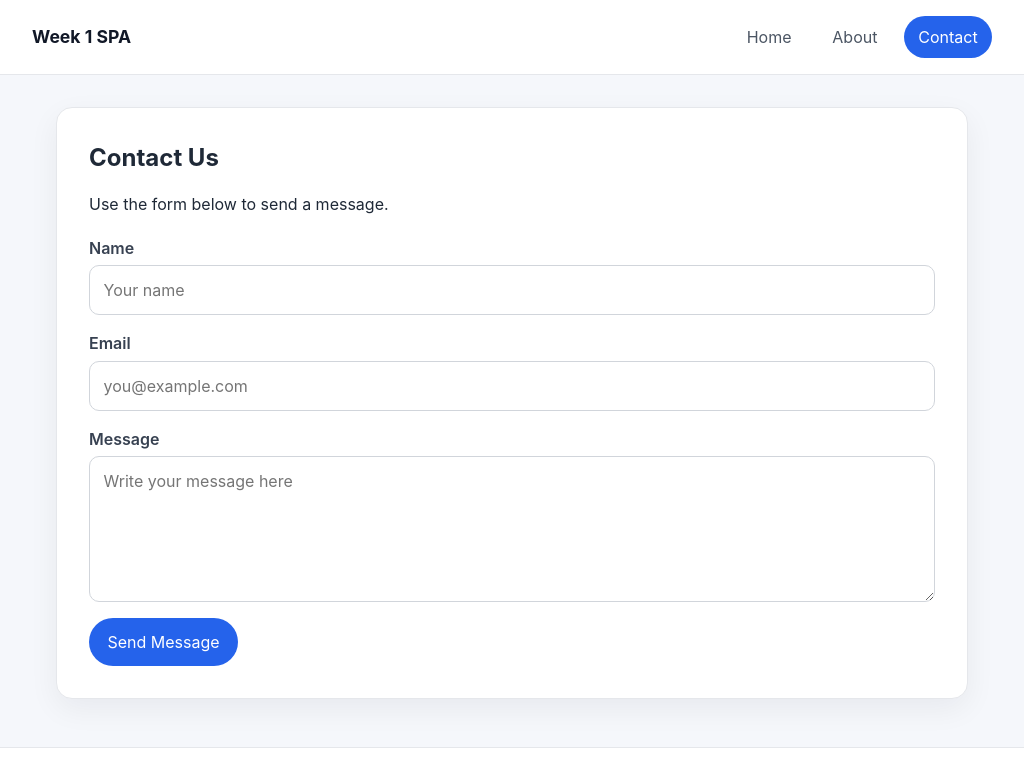
Week 1 SPA › validates the contact form
The image size is (1024, 768).
Click the button "Send Message".
click(163, 642)  # box x1=89 y1=618 x2=238 y2=666
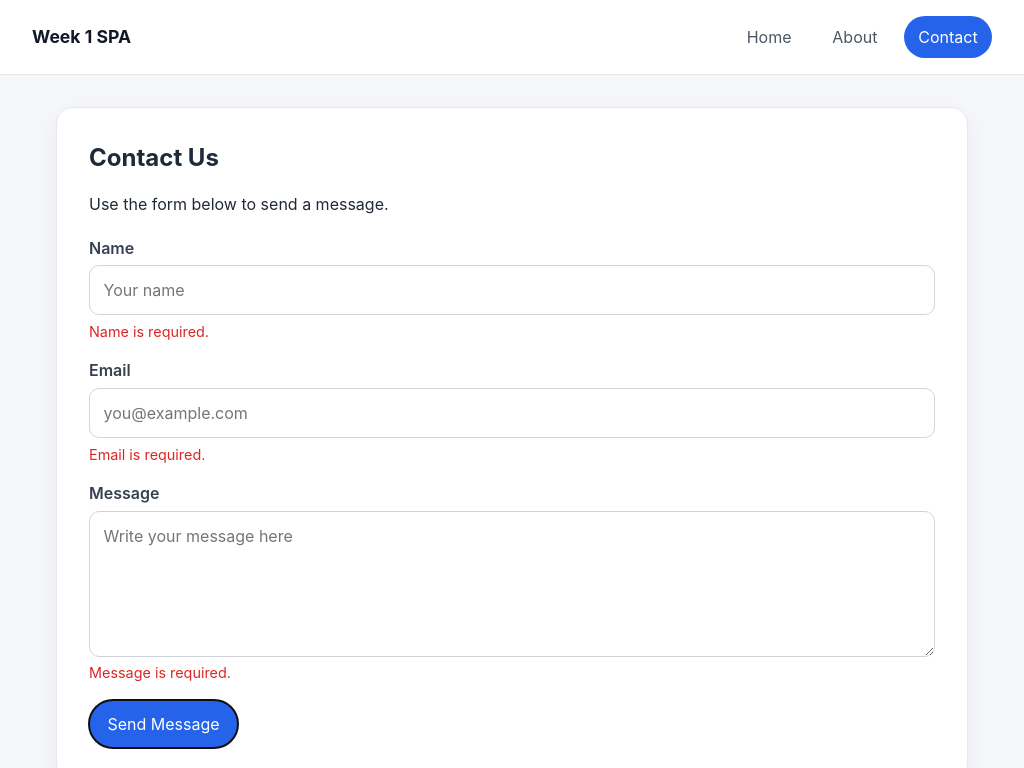
Result: the text "Name is required." is shown at x1=89 y1=323 x2=209 y2=340
Result: the text "Email is required." is shown at x1=89 y1=446 x2=205 y2=463
Result: the text "Message is required." is shown at x1=89 y1=664 x2=231 y2=681
Type "Ada Lovelace" into the field labelled "Name Name is required.".
click(512, 290); type("Ada Lovelace")  # box x1=89 y1=265 x2=935 y2=315
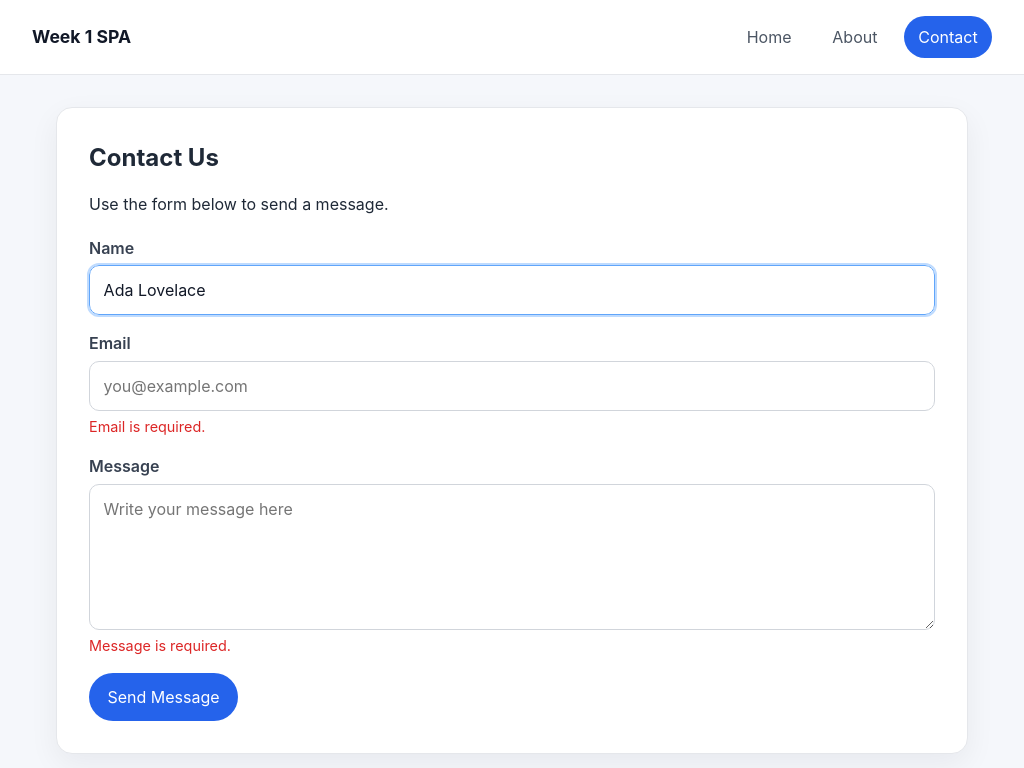
Type "ada@example.com" into the field labelled "Email Email is required.".
click(512, 386); type("ada@example.com")  # box x1=89 y1=361 x2=935 y2=411
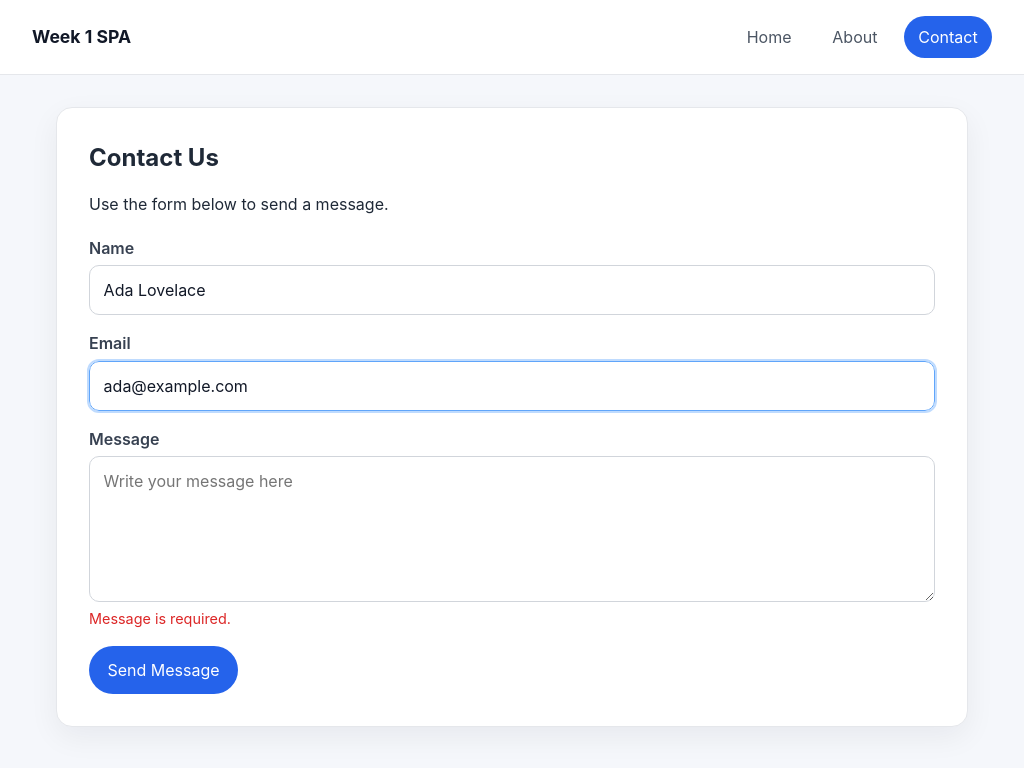
Type "Hello from testing!" into the text box labelled "Message Message is required.".
click(512, 529); type("Hello from testing!")  # box x1=89 y1=456 x2=935 y2=602
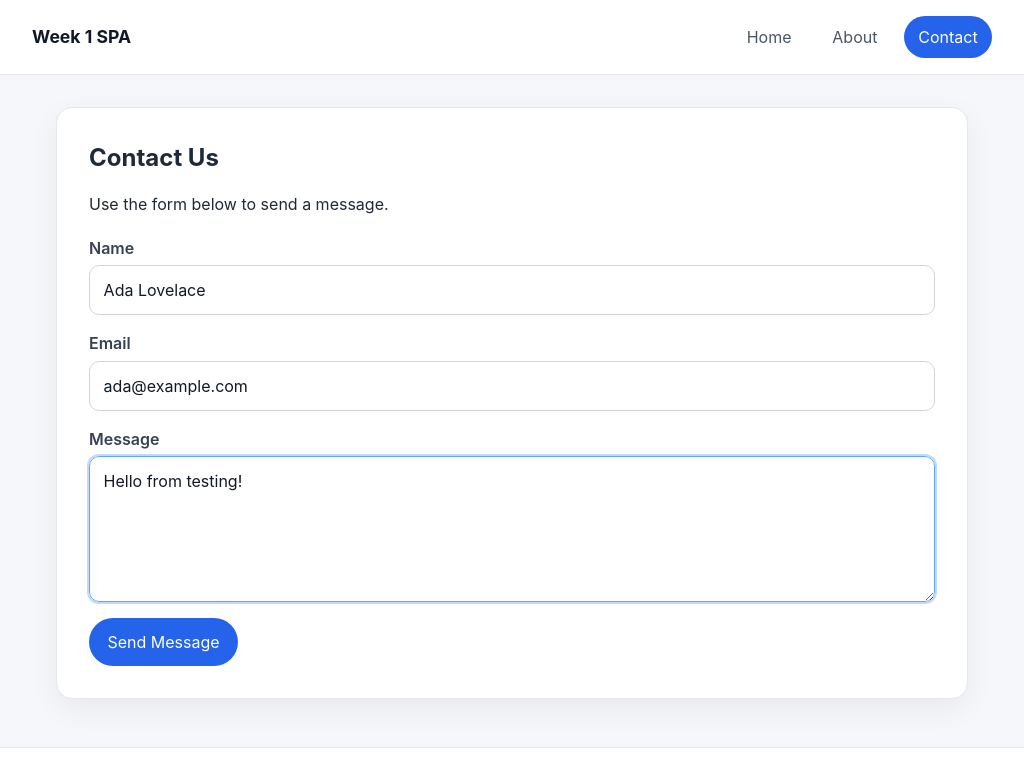
Click the button "Send Message".
click(163, 642)  # box x1=89 y1=618 x2=238 y2=666
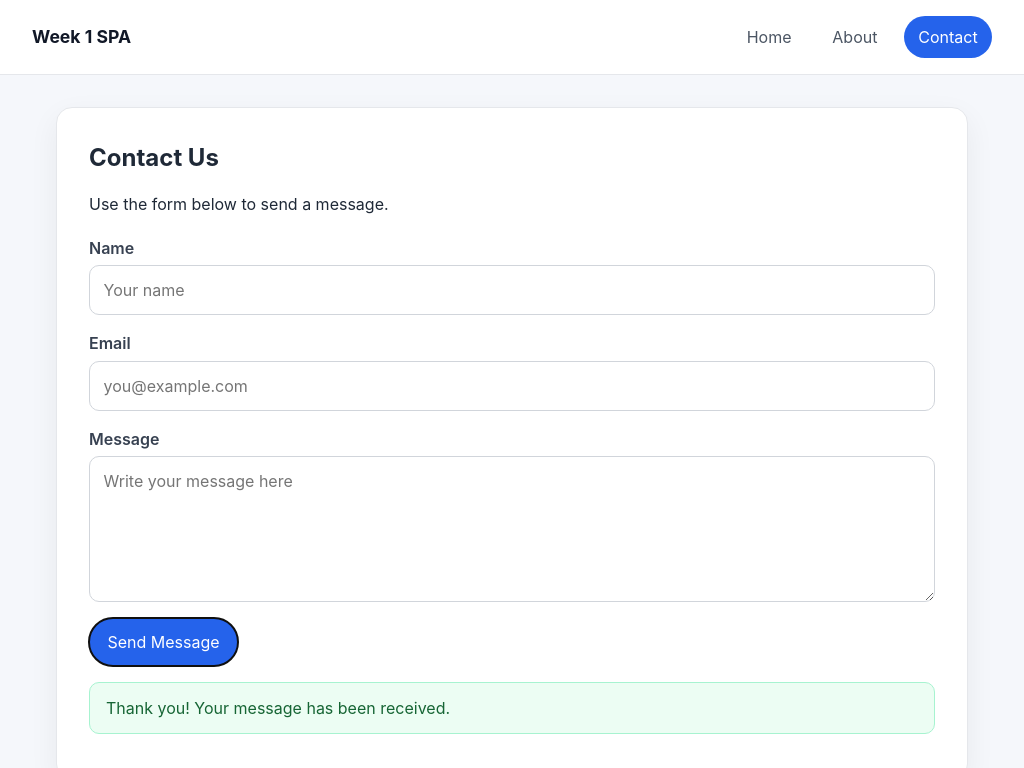
Result: the text "Thank you! Your message has been received." is shown at x1=89 y1=682 x2=935 y2=734
